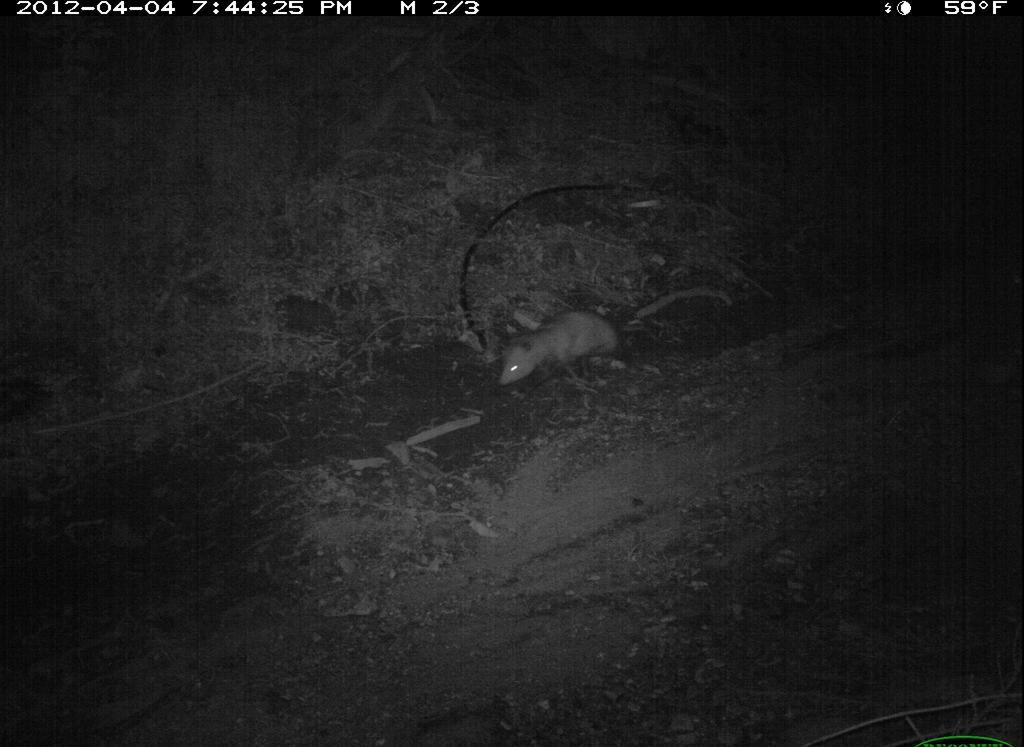opossum: (460, 285, 652, 397)
